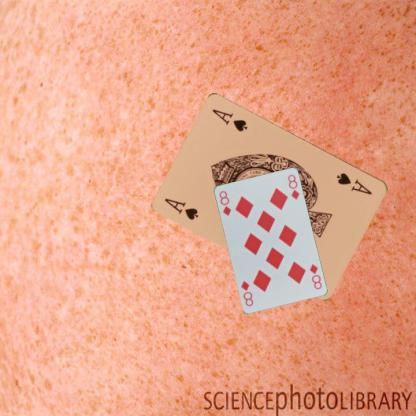8d: (216, 188, 232, 217), (307, 261, 323, 290)
As: (334, 170, 374, 196), (162, 196, 200, 222)
